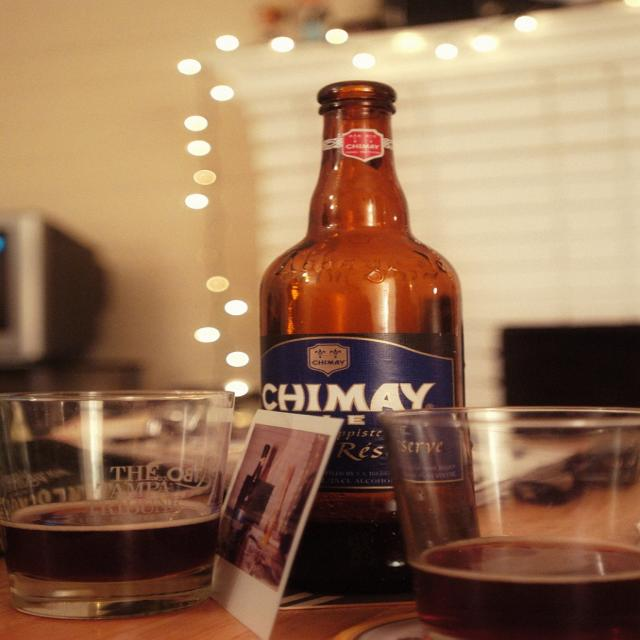chimay: (261, 337, 458, 492)
